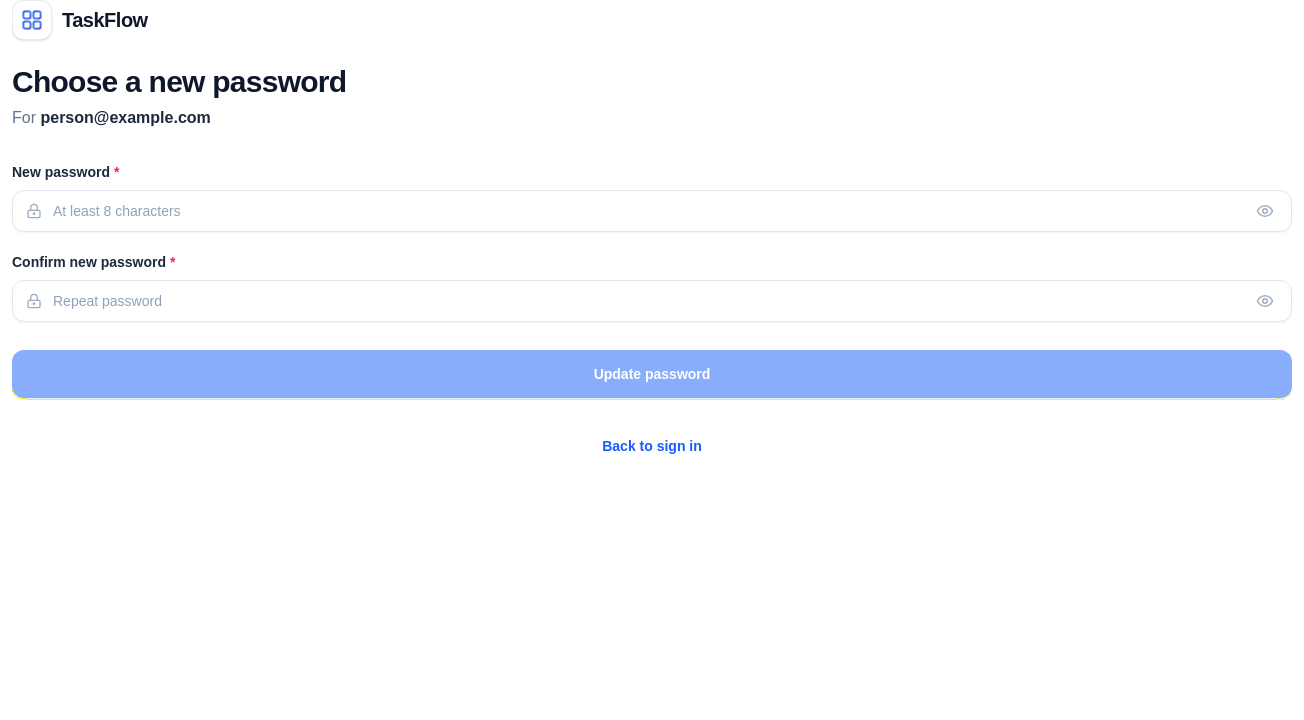
Test: shows safe reset errors for Connection failed
Step 1. Type "NewStrongPassword@123" into the password field with placeholder "At least 8 characters" → coordinates (652, 211), box [12,190,1292,232]
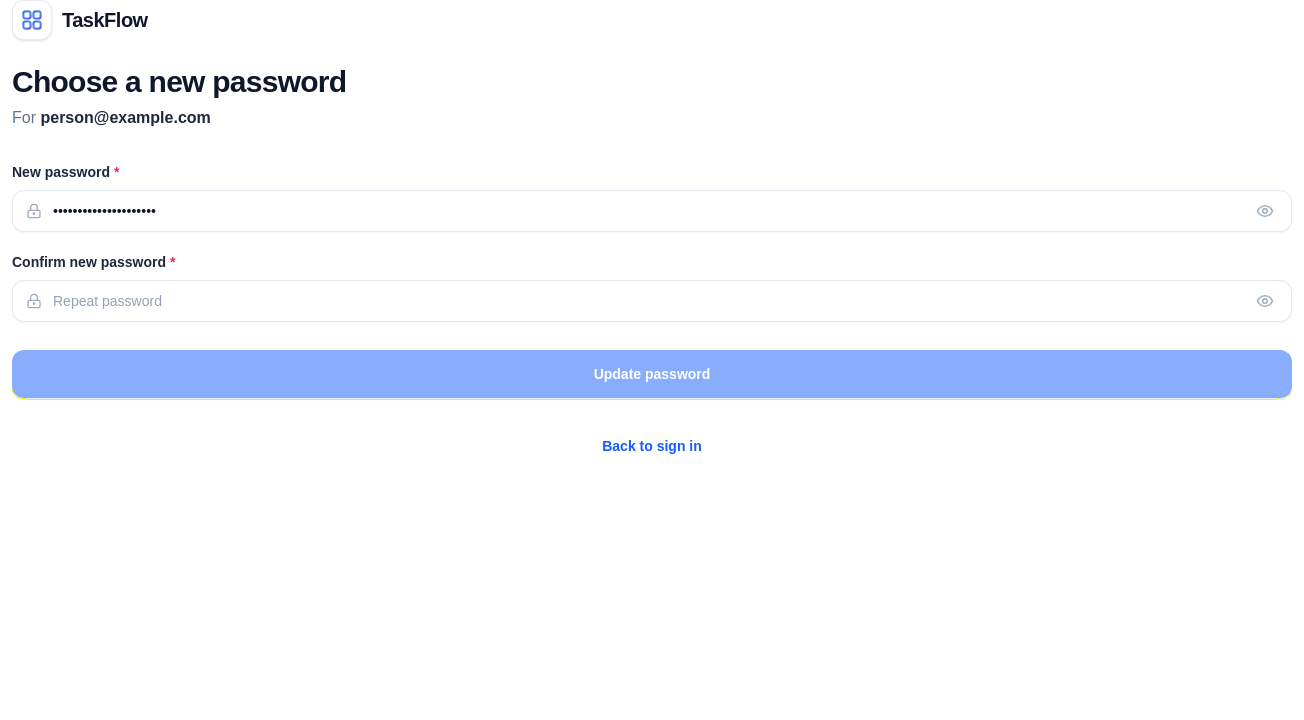
Step 2. Type "NewStrongPassword@123" into the password field with placeholder "Repeat password" → coordinates (652, 301), box [12,280,1292,322]
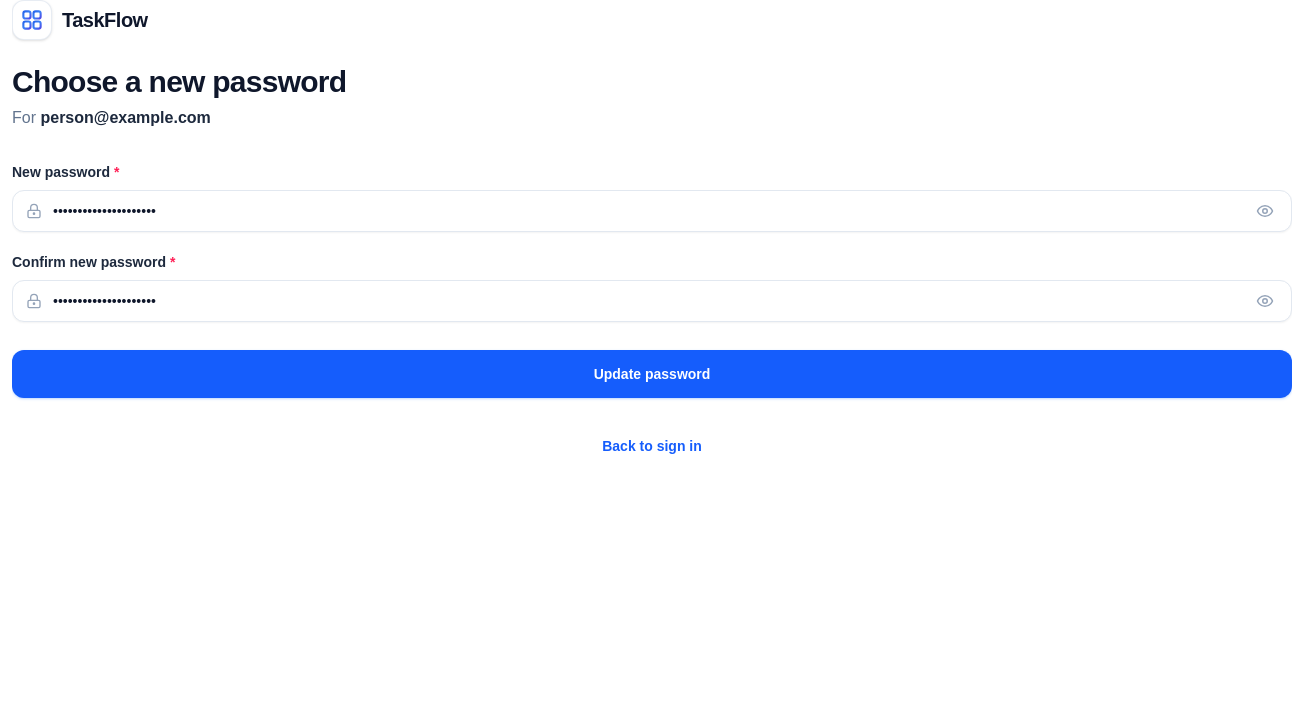
Expected: the button "Update password" is enabled
Step 3. Click the button "Update password" → coordinates (652, 374), box [12,350,1292,398]
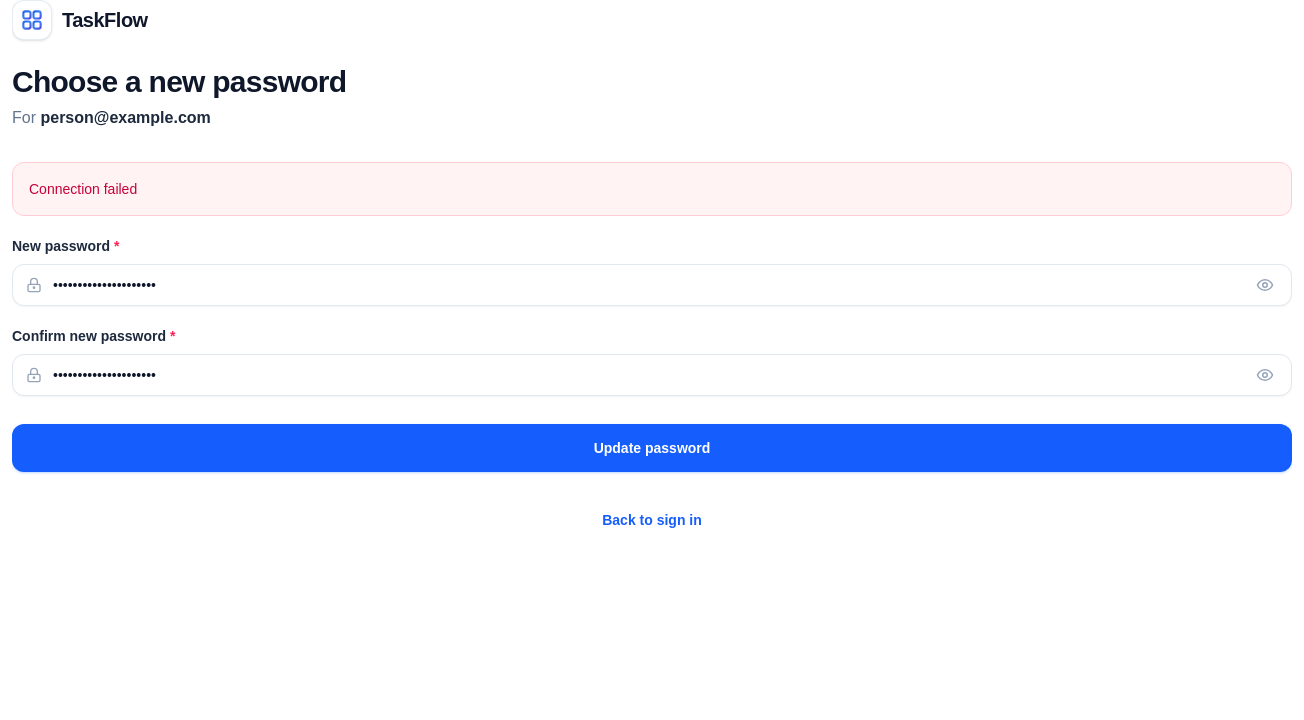
Expected: the message reads "Connection failed", [29,181,137,197]
